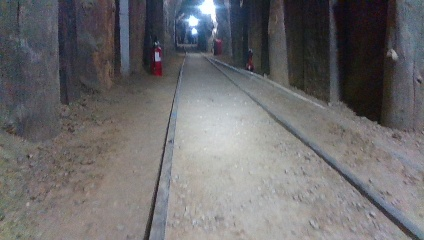backpack: (212, 38, 224, 56)
drill: (242, 46, 254, 71)
fire_extinguisher: (148, 33, 163, 78)
